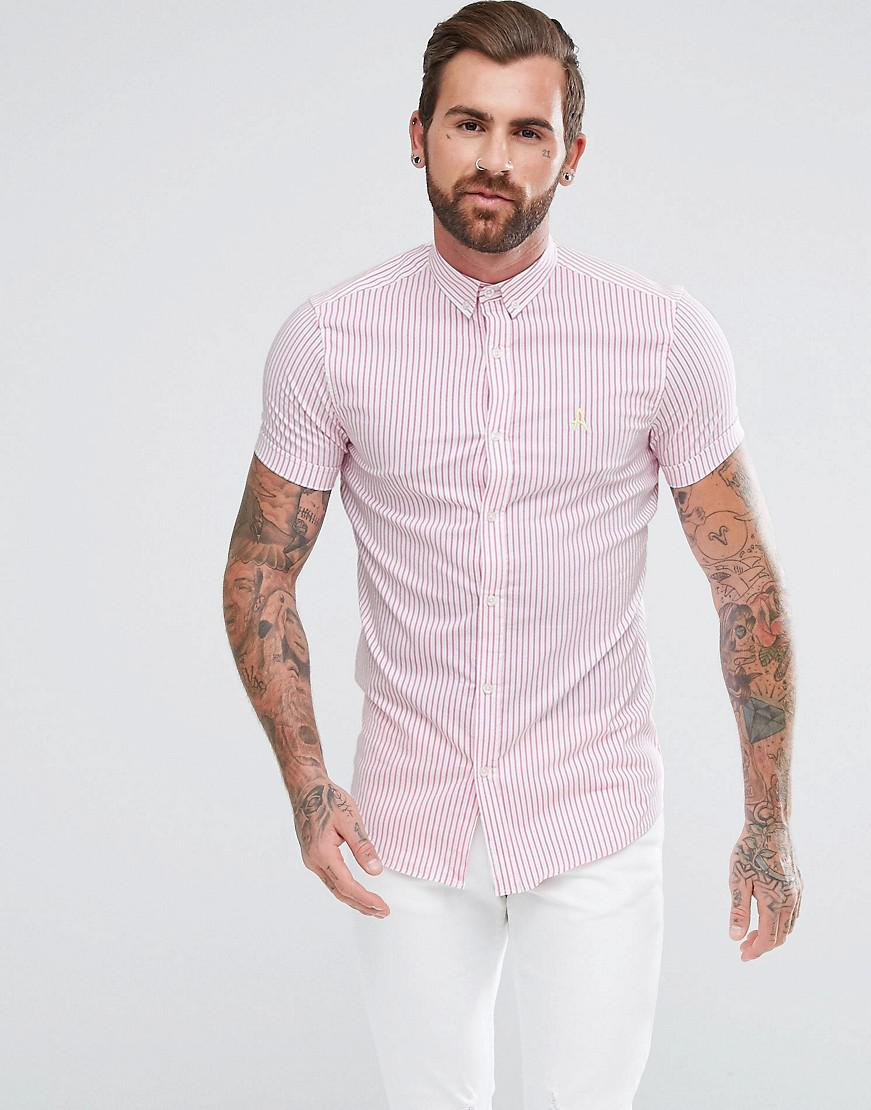teeshirt: (224, 235, 735, 847)
